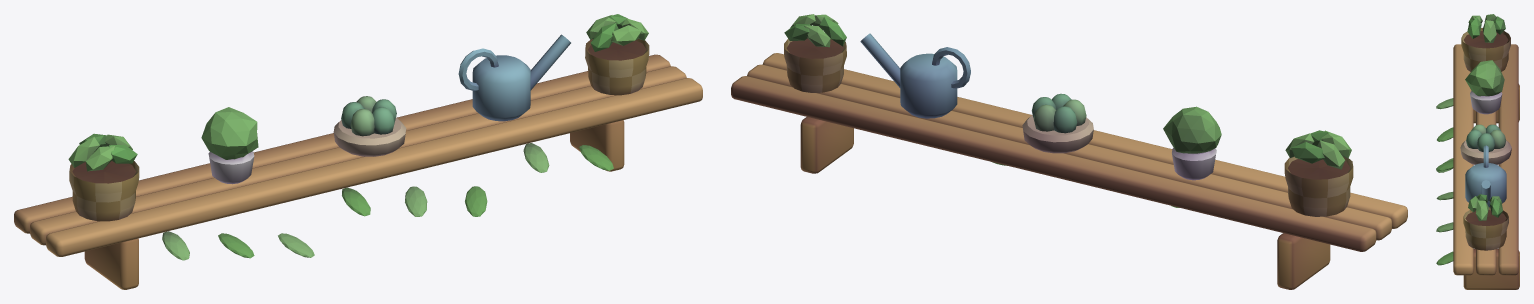
Rendered from shelf_garden.glb.
3 views of the same model, side by side, from view 1: azimuth 30°, elevation 25°; view 2: azimuth 150°, elevation 25°; view 3: azimuth 270°, elevation 25° (orthographic). The views are drawn at different scales.
Parts seen in each view (by area): view 1: shelf_garden; view 2: shelf_garden; view 3: shelf_garden.
Boxes of the visible parts, bbox=[...] form: shelf_garden: bbox=[14, 14, 702, 289]; shelf_garden: bbox=[731, 14, 1407, 289]; shelf_garden: bbox=[1436, 14, 1519, 289].
Size of the model in its own units: 2.24 by 0.4739 by 0.3571.
